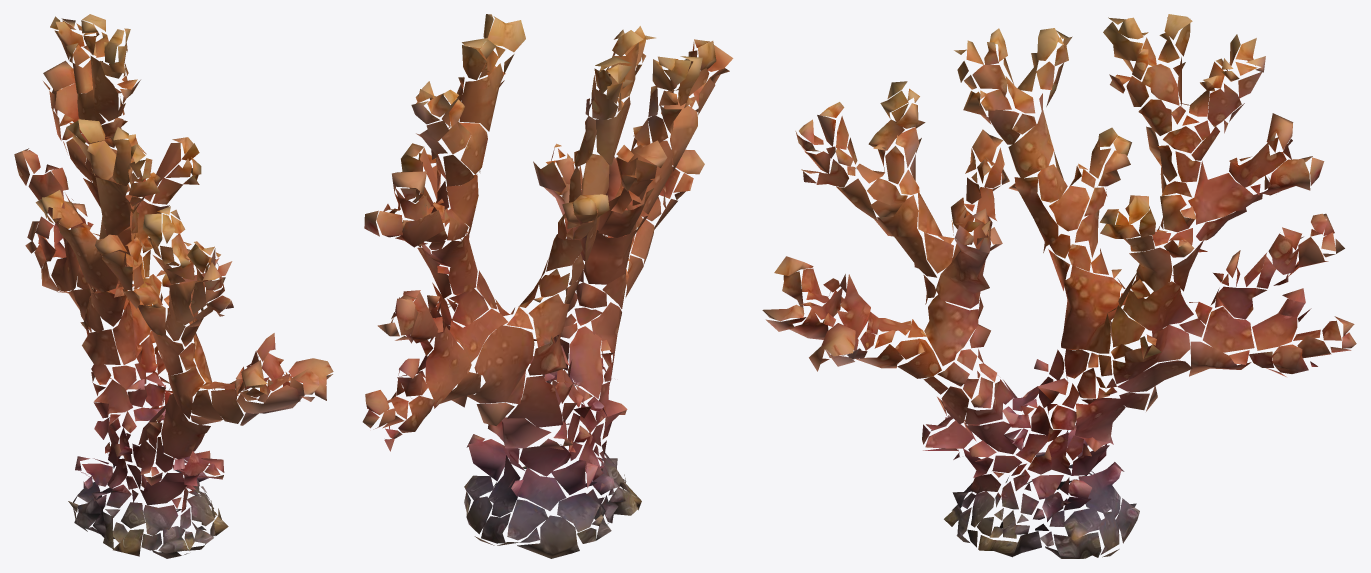
The model's file is coral_branch.glb.
3 renders of one model, left to right at view 1: azimuth 30°, elevation 25°; view 2: azimuth 150°, elevation 25°; view 3: azimuth 270°, elevation 25°, orthographic. The views are drawn at different scales.
Parts seen in each view (by area): view 1: tripo_node_f0be7a21-98e7-4a03-8dd0-8faa4bcad7a3; view 2: tripo_node_f0be7a21-98e7-4a03-8dd0-8faa4bcad7a3; view 3: tripo_node_f0be7a21-98e7-4a03-8dd0-8faa4bcad7a3.
Part boxes in pixels (x1,y1,x2,y2): tripo_node_f0be7a21-98e7-4a03-8dd0-8faa4bcad7a3: [14, 14, 333, 558]; tripo_node_f0be7a21-98e7-4a03-8dd0-8faa4bcad7a3: [362, 14, 733, 558]; tripo_node_f0be7a21-98e7-4a03-8dd0-8faa4bcad7a3: [762, 14, 1356, 558].
Size of the model in its own units: 0.3665 by 0.9798 by 1.
Materials: 1 (1 with a texture image).
